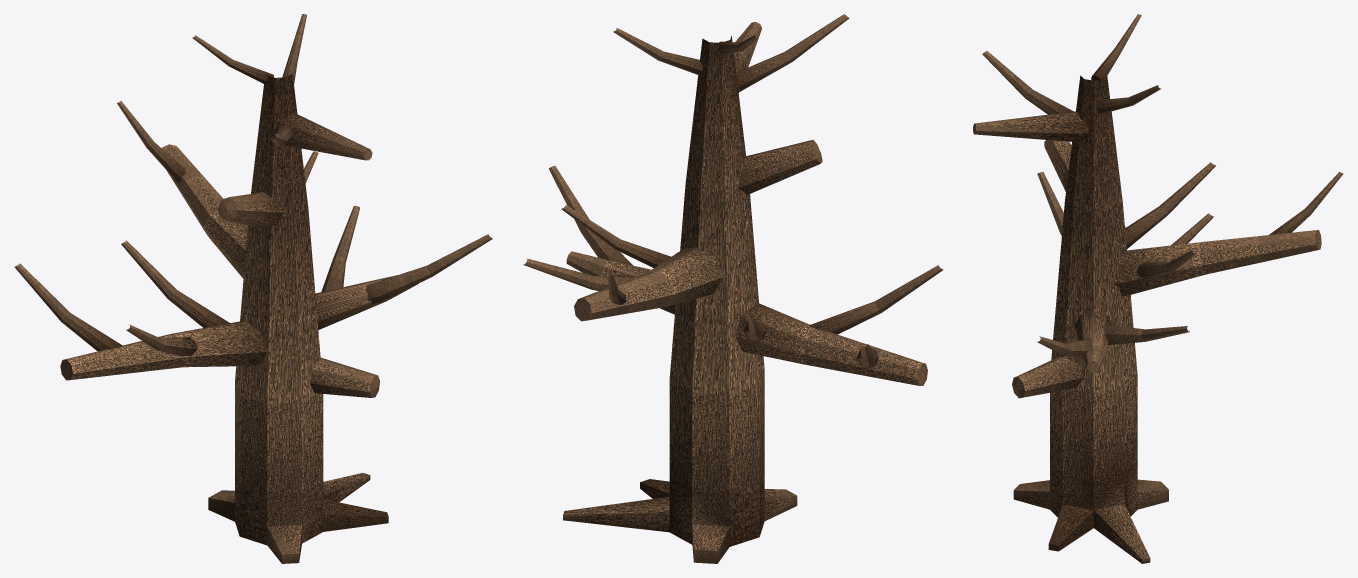
Rendered from tree_one.glb.
The picture shows the model from 3 angles, left to right: view 1: azimuth 30°, elevation 25°; view 2: azimuth 150°, elevation 25°; view 3: azimuth 270°, elevation 25°; orthographic projection. The views are drawn at different scales.
Visible parts, largest first — view 1: tree_one; view 2: tree_one; view 3: tree_one.
Boxes of the visible parts, x1,y1,x2,y2 form: tree_one: (14,14,492,563); tree_one: (523,14,943,563); tree_one: (973,14,1343,563).
Bounding box in the file's own units: 8.09 × 9.76 × 7.01.
Materials: 1 (1 with a texture image).
